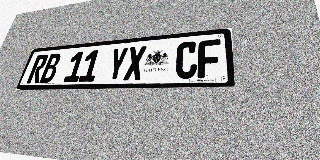1: (78, 50, 102, 82), (63, 51, 86, 82)
B: (39, 53, 62, 83)
C: (175, 41, 198, 79)
F: (197, 39, 221, 78)
R: (26, 54, 49, 83)
X: (123, 46, 147, 81)
Y: (105, 47, 129, 81)
